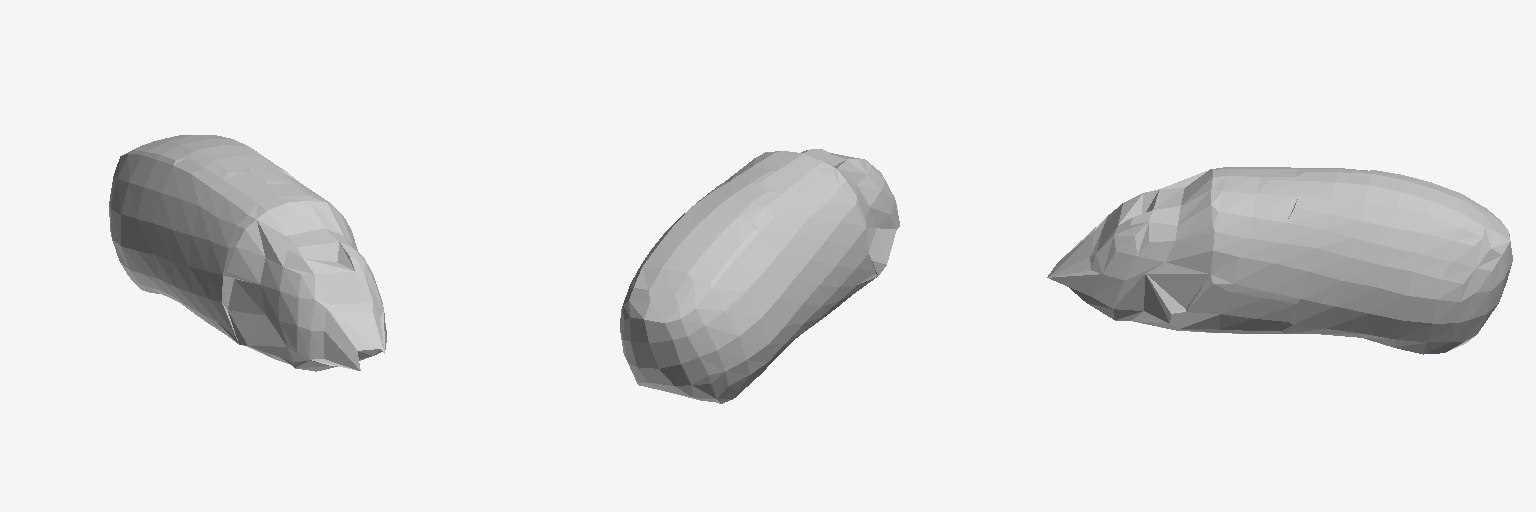
The model's file is sim_ecub_r_hand_middle_2.obj.
3 renders of one model, left to right at view 1: azimuth 30°, elevation 25°; view 2: azimuth 150°, elevation 25°; view 3: azimuth 270°, elevation 25°, orthographic.
Size of the model in its own units: 17.24 by 18.82 by 50.43.